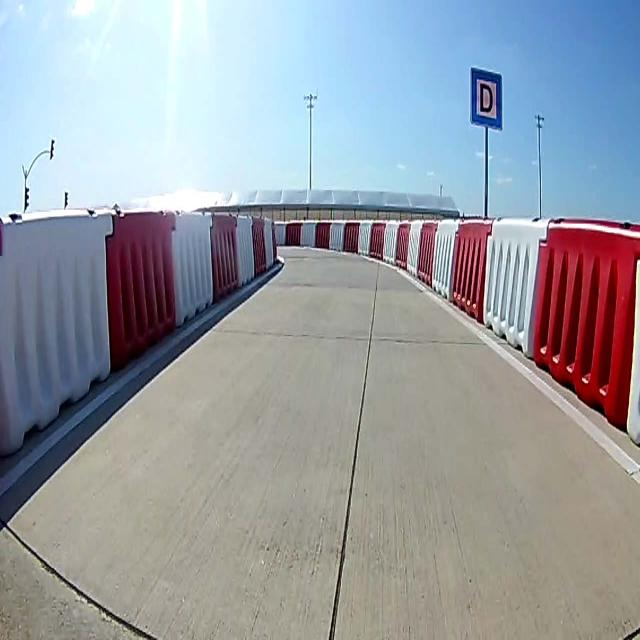durak: (470, 68, 504, 128)
